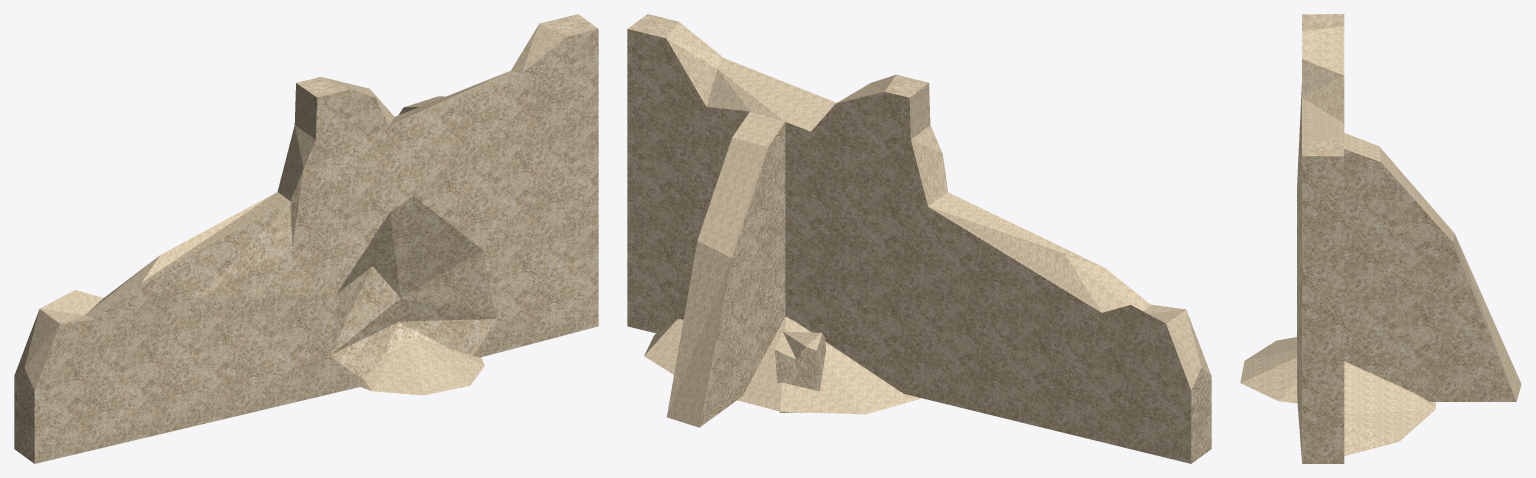
The model's file is thm_tato_imprv_wall_ruin_s03_l2.fbx.
3 renders of one model, left to right at view 1: azimuth 30°, elevation 25°; view 2: azimuth 150°, elevation 25°; view 3: azimuth 270°, elevation 25°, orthographic. The views are drawn at different scales.
Visible parts, largest first — view 1: mesh_node; view 2: mesh_node; view 3: mesh_node.
Boxes of the visible parts, x1,y1,x2,y2 form: mesh_node: (14,14,598,463); mesh_node: (627,14,1211,463); mesh_node: (1240,14,1521,463).
Bounding box in the file's own units: 8 × 4.32 × 3.34.
